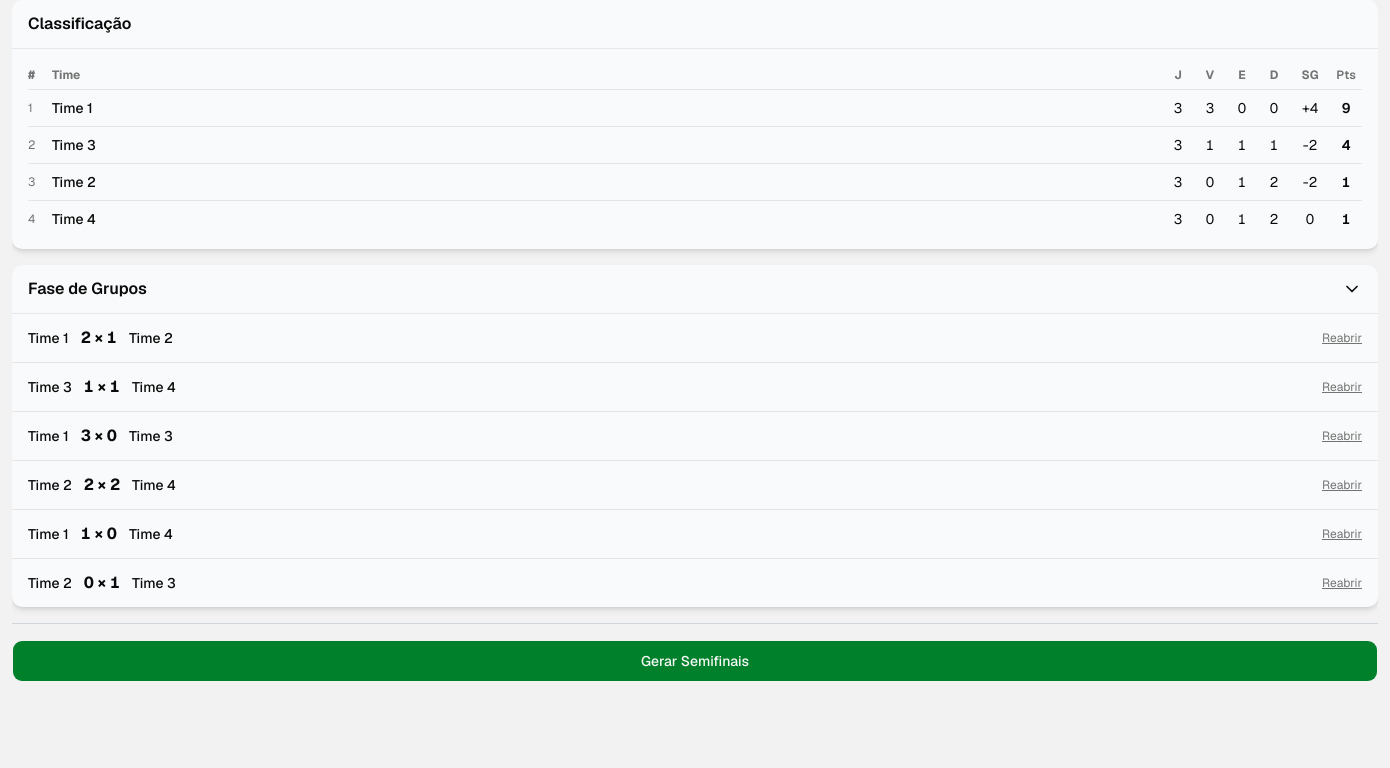
it: TournamentClient › generate next phase › shows error when generateNextPhase fails
This screenshot has width=1390, height=768.
What coordinates should you click on to do the following:
click the button "Gerar Semifinais"
I would click on:
 (695, 661)
Its box is [12,640,1378,682].
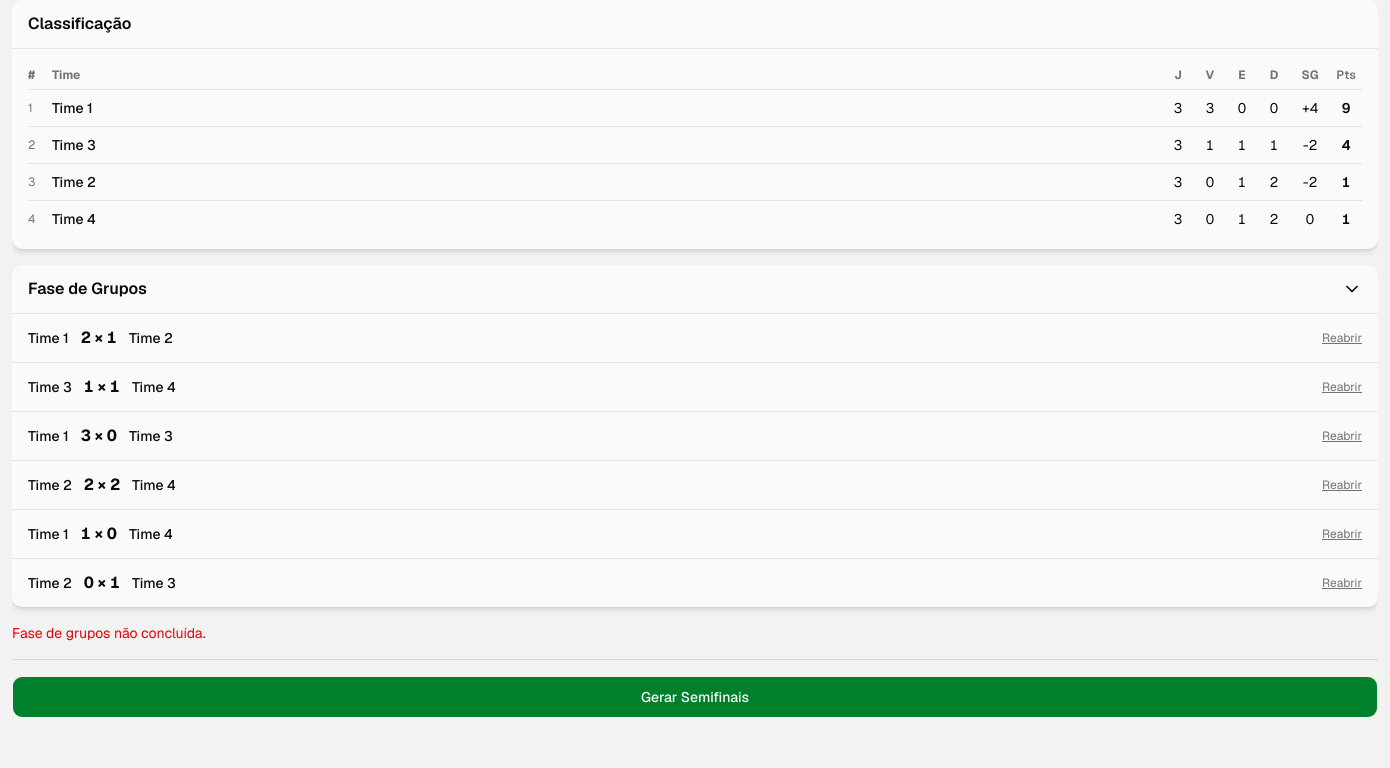
expect the text "Fase de grupos não concluída." is shown: met, box [12,624,206,642]
